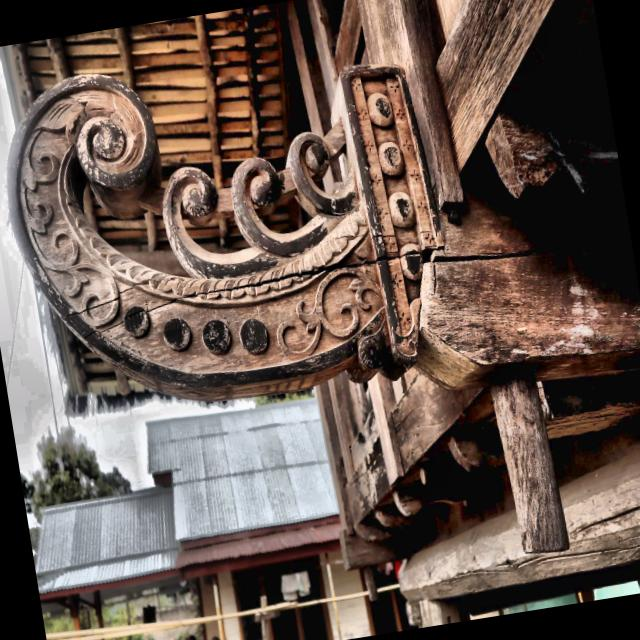ornamen: (8, 63, 436, 402)
